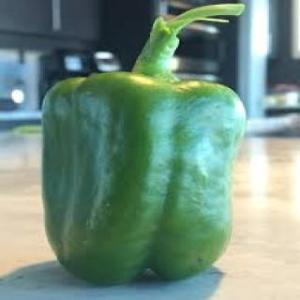bell_pepper: (25, 61, 255, 283)
